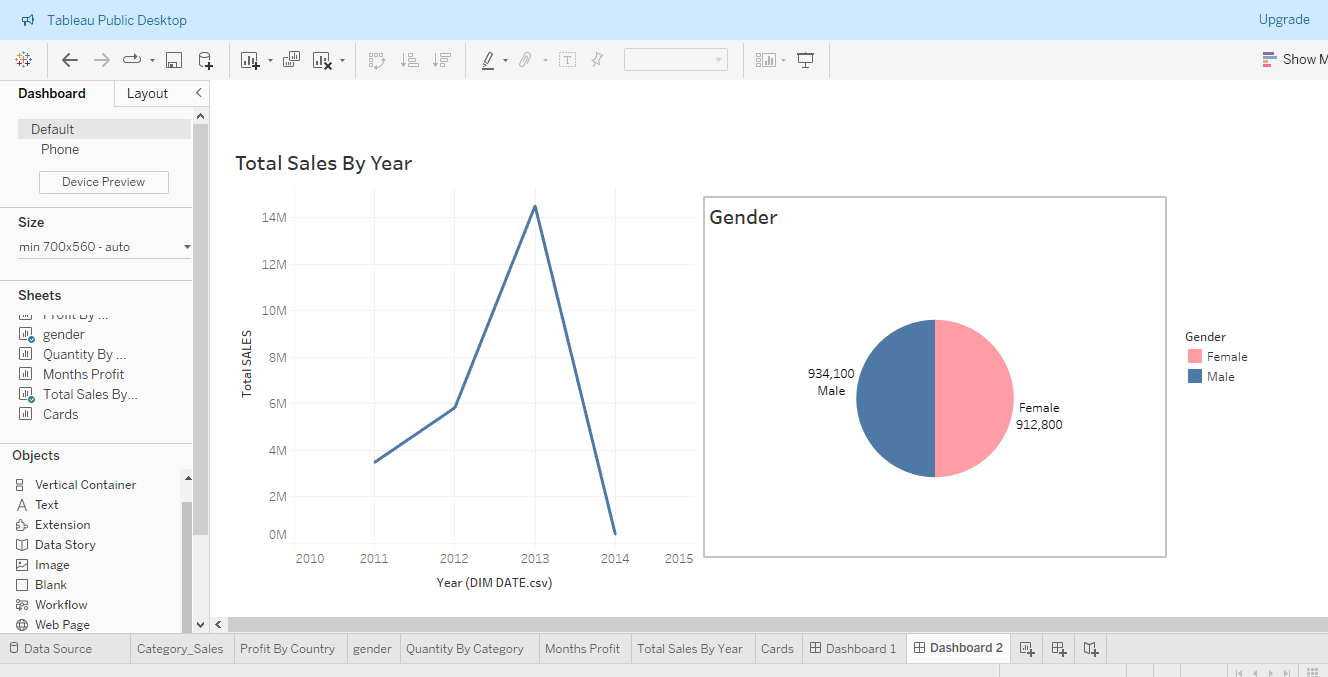

What the dashboard file says about the page in this screenshot:
{"tool":"tableau","page":{"name":"Dashboard 2","canvas":[1000,1000],"units":"permille","ordinal":1},"visuals":[{"type":"worksheet","title":"Total Sales By Year","mark":"Line","rows":["Sum of SALES"],"cols":["Year (DIM_DATE.csv)"],"box":[19.3,114.3,407.4,810.7]},{"type":"worksheet","title":"gender","mark":"Pie","box":[435.5,210.7,403.9,639.3]},{"type":"legend","title":"gender","param":"[federated.0iwao7s1lpxsi11fx12cv05erlub].[none:GENDER:nk]","box":[856.9,442.9,122.9,207.1]}]}

Visuals, with their boxes on the dashboard's canvas, which has no fixed pixel size, in thousandths of its width and height (x1, y1, x2, y2). These are canvas units, not pixel positions in the 1328x677 screenshot, which may show the page scaled, cropped or inside an application window:
"Total Sales By Year" worksheet (Line marks): box=[19, 114, 427, 925]
"gender" worksheet (Pie marks): box=[436, 211, 839, 850]
"gender" legend: box=[857, 443, 980, 650]
